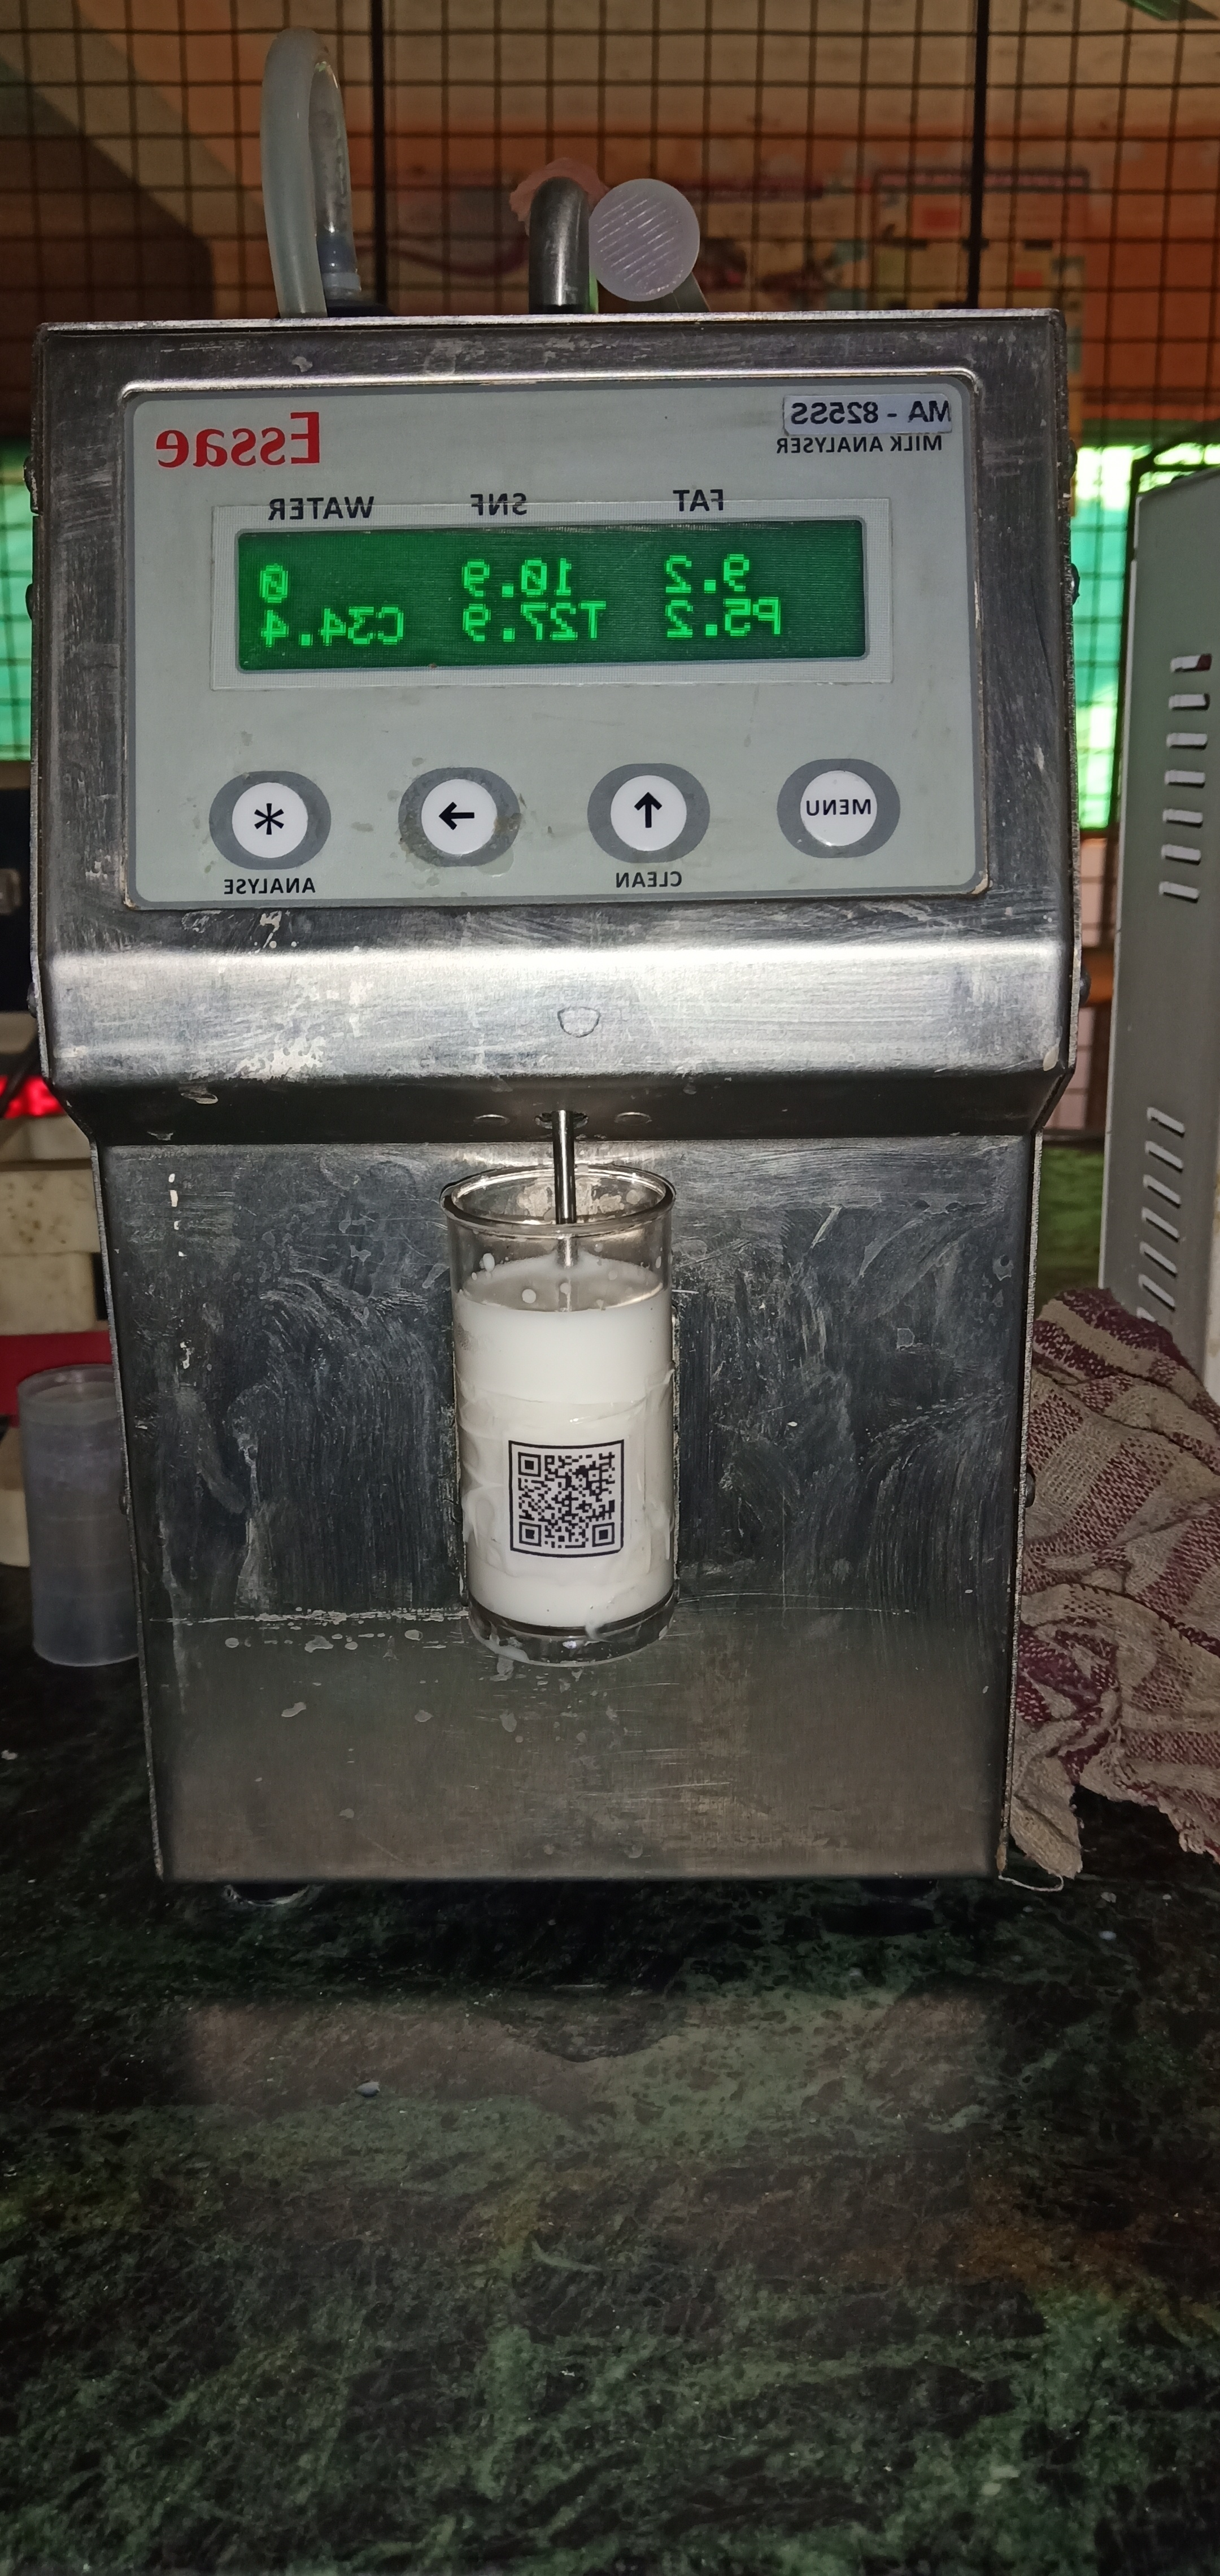lcd: (220, 529, 890, 678)
qr: (511, 1433, 635, 1566)
